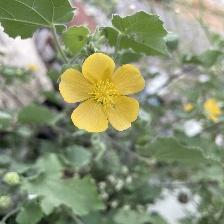indian mallow: (58, 53, 150, 137)
